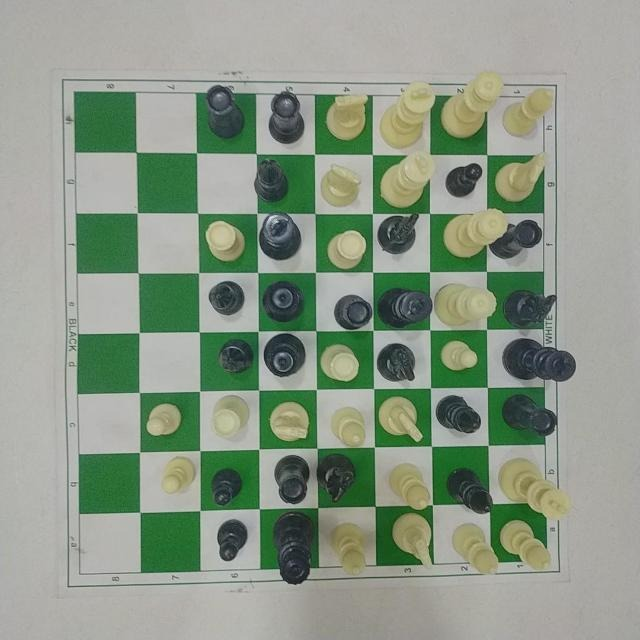black-bishop: (444, 464, 494, 516), (247, 158, 292, 208), (435, 392, 483, 436), (204, 277, 250, 321), (213, 334, 255, 376)
black-king: (500, 335, 577, 384), (257, 213, 305, 265), (376, 287, 429, 327)
black-knight: (501, 288, 556, 332), (315, 452, 358, 504), (372, 342, 421, 386), (374, 214, 420, 256)
black-pawn: (213, 515, 250, 563), (441, 159, 485, 199), (209, 464, 245, 508)
black-queen: (274, 509, 316, 586), (258, 277, 306, 327), (261, 333, 309, 381)
black-rook: (500, 389, 558, 439), (265, 88, 309, 149), (202, 83, 247, 141), (489, 214, 541, 263), (273, 450, 312, 506), (331, 291, 372, 331)
white-bishop: (501, 514, 557, 575), (502, 84, 557, 146), (447, 518, 501, 577), (325, 514, 373, 580), (385, 458, 437, 510), (326, 402, 372, 448)
white-king: (497, 454, 572, 521), (380, 82, 436, 153), (380, 153, 434, 209)
white-knight: (493, 154, 549, 207), (377, 391, 427, 447), (320, 93, 372, 146), (315, 162, 367, 214), (387, 515, 435, 571), (263, 398, 315, 446)
white-pawn: (436, 336, 484, 376), (141, 400, 188, 440), (155, 455, 200, 495)
white-queen: (438, 69, 502, 140), (440, 206, 511, 260), (433, 279, 497, 329)
white-rook: (204, 392, 253, 442), (322, 225, 372, 273), (202, 216, 250, 266), (319, 339, 363, 387)
